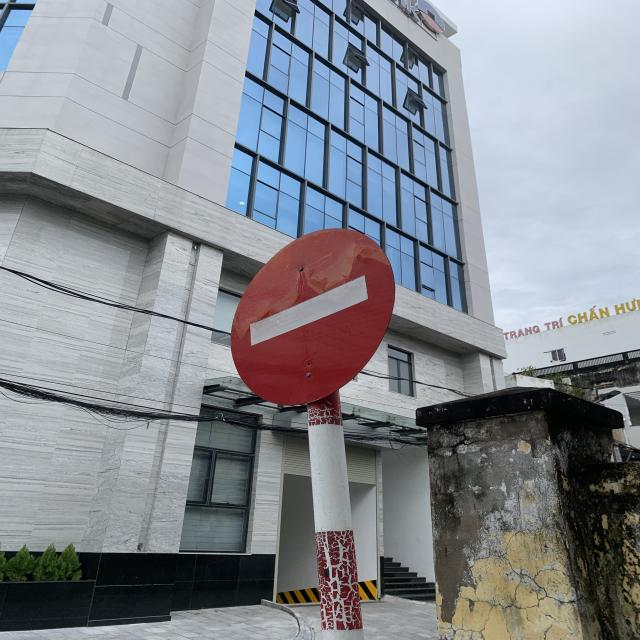Cam_Di_Nguoc_Chieu: (228, 226, 397, 406)
